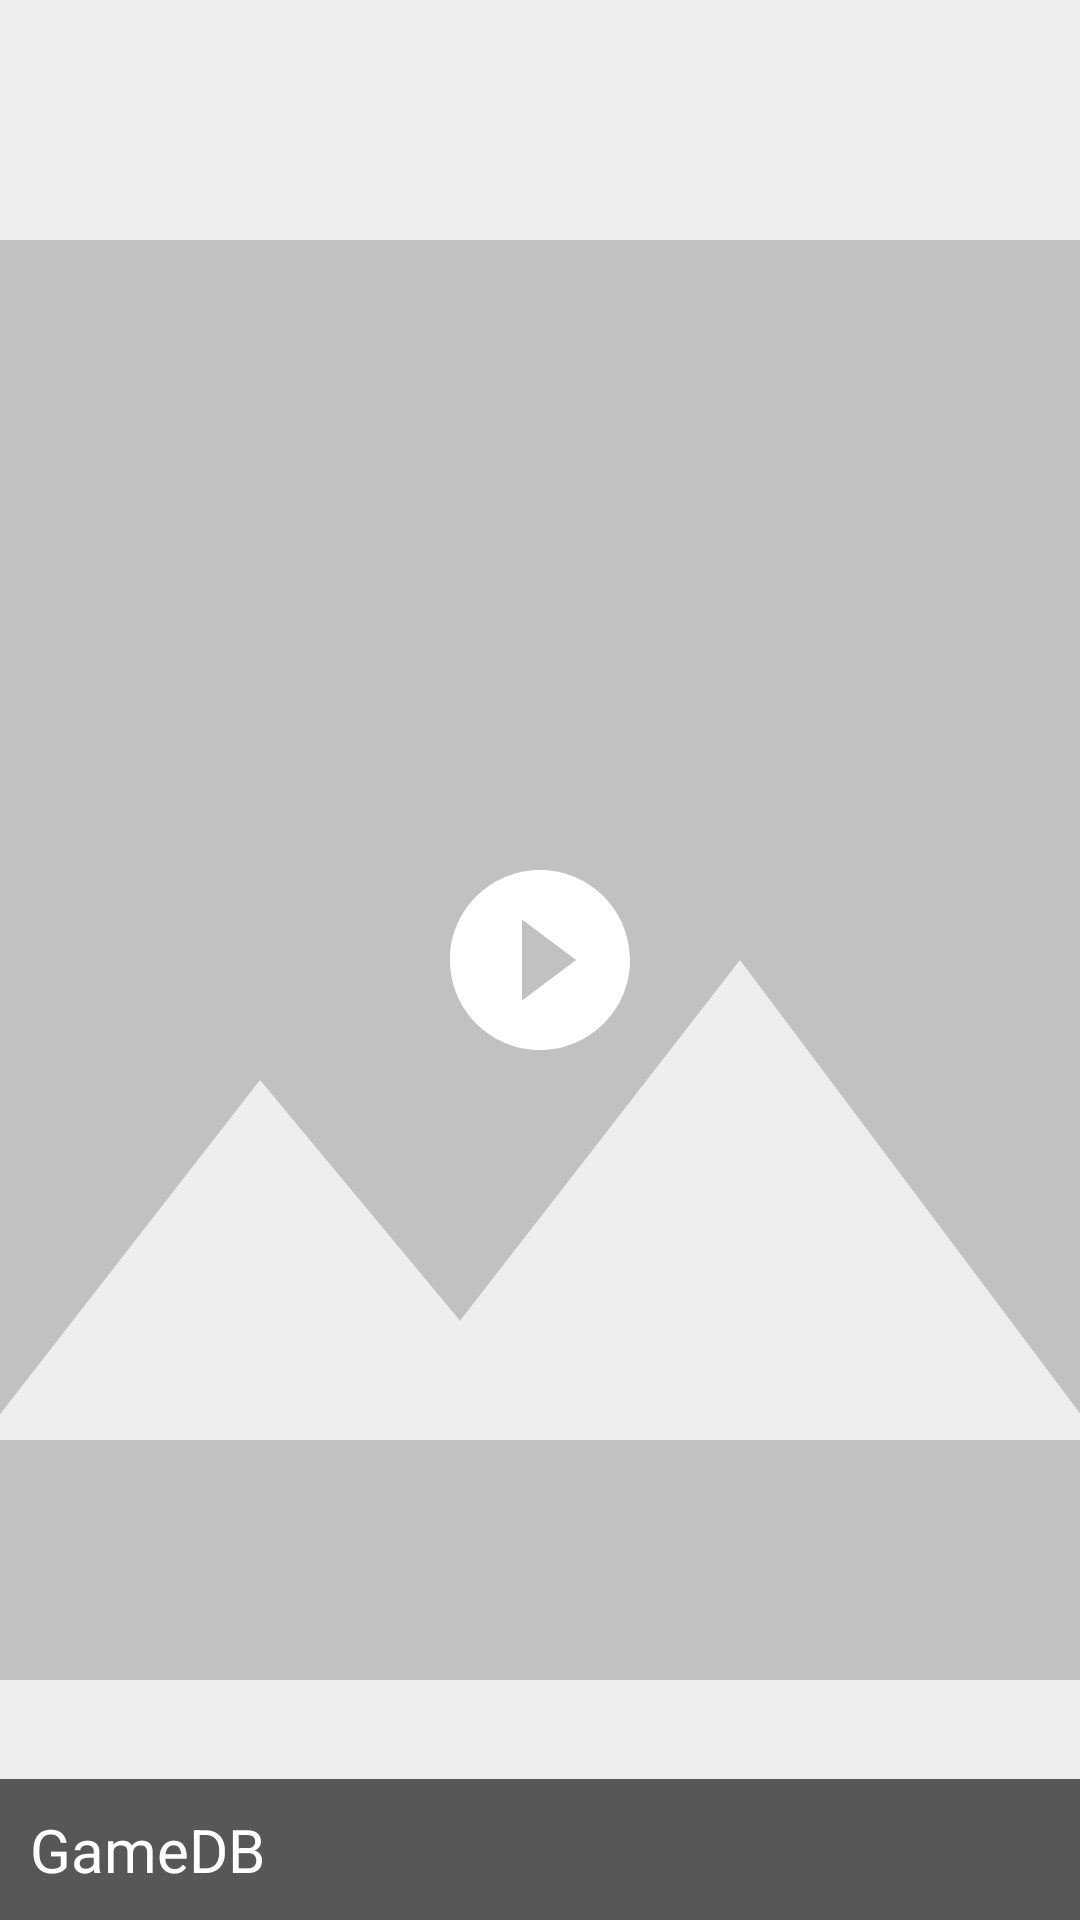

Named icons in this screenshot (1080px x 1920px) and their centers, [x,y]:
play circle: [540,960]
